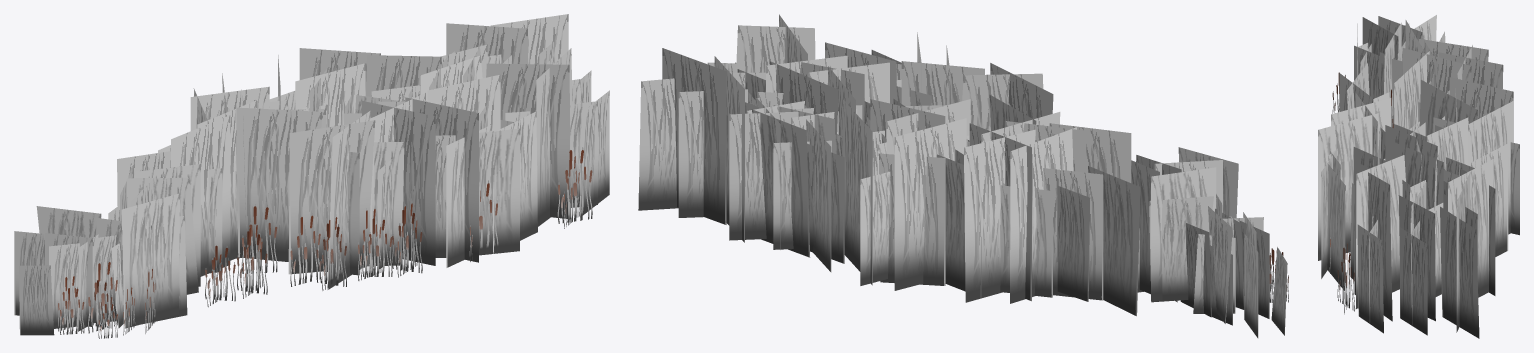
File: Aqua Grass Composition1.fbx
3 views of the same model, side by side, from view 1: azimuth 30°, elevation 25°; view 2: azimuth 150°, elevation 25°; view 3: azimuth 270°, elevation 25° (orthographic). The views are drawn at different scales.
Parts seen in each view (by area): view 1: Aqua Grass Composition1; view 2: Aqua Grass Composition1; view 3: Aqua Grass Composition1.
Part boxes in pixels (left/top/right/bottom): Aqua Grass Composition1: left=14, top=14, right=609, bottom=338; Aqua Grass Composition1: left=638, top=14, right=1288, bottom=338; Aqua Grass Composition1: left=1318, top=15, right=1519, bottom=338.
Size of the model in its own units: 8.23 by 2.2 by 2.79.
Materials: 2 (2 with a texture image).
